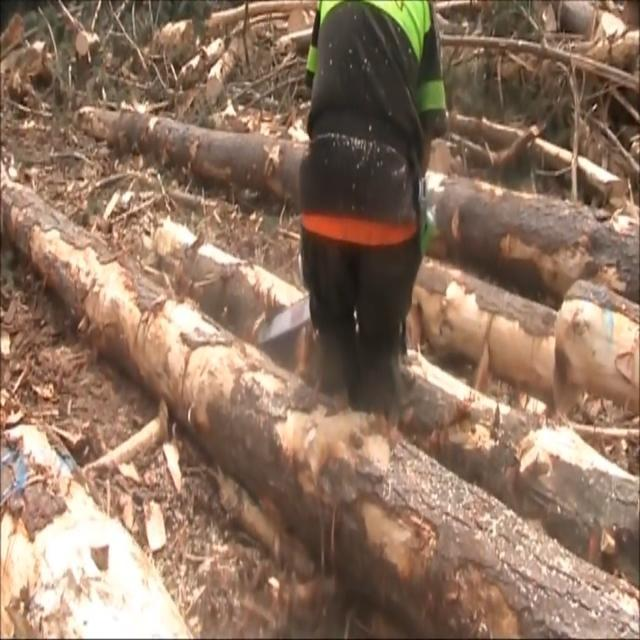Chainsaw: (238, 252, 320, 364)
